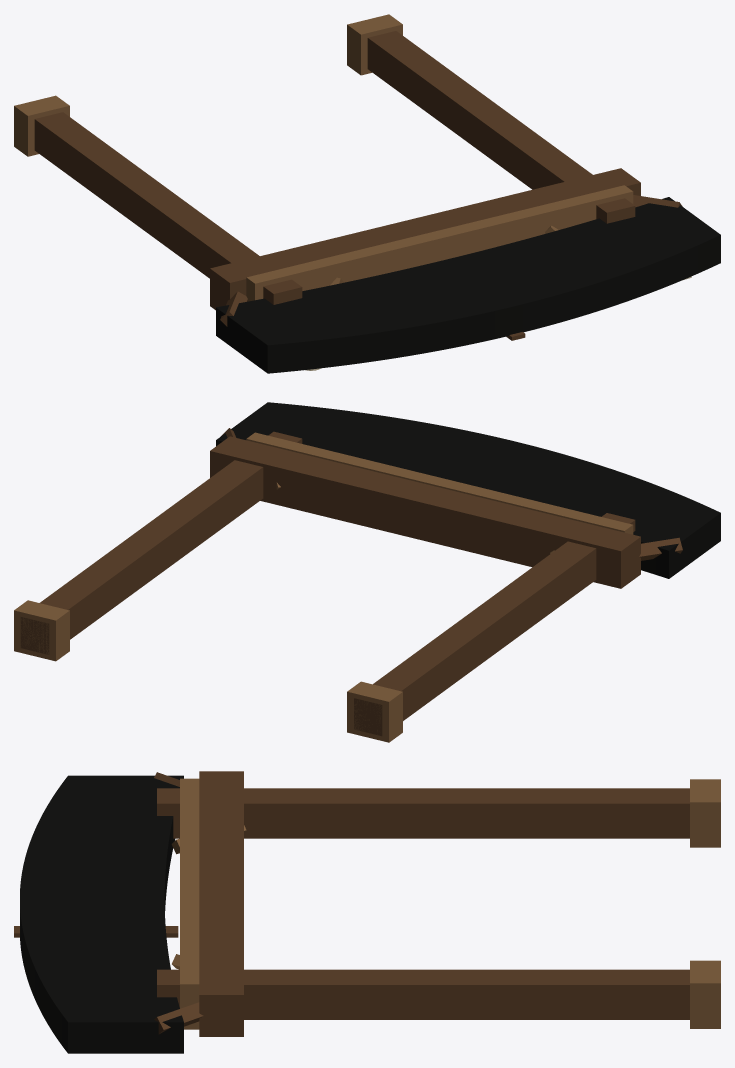
The model's file is sunrise_tavern_arch_sign_only_cm.obj.
3 renders of one model, top to bottom at view 1: azimuth 30°, elevation 25°; view 2: azimuth 150°, elevation 25°; view 3: azimuth 270°, elevation 25°, orthographic. The views are drawn at different scales.
Visible parts, largest first — view 1: Sunrise_Tavern_Arch_and_Sign; view 2: Sunrise_Tavern_Arch_and_Sign; view 3: Sunrise_Tavern_Arch_and_Sign.
Boxes of the visible parts, box(x1,y1,x2,y2) form: Sunrise_Tavern_Arch_and_Sign: box(14, 14, 720, 373); Sunrise_Tavern_Arch_and_Sign: box(14, 402, 720, 742); Sunrise_Tavern_Arch_and_Sign: box(14, 771, 720, 1053).
Size of the model in its own units: 308 by 30.5 by 366.
